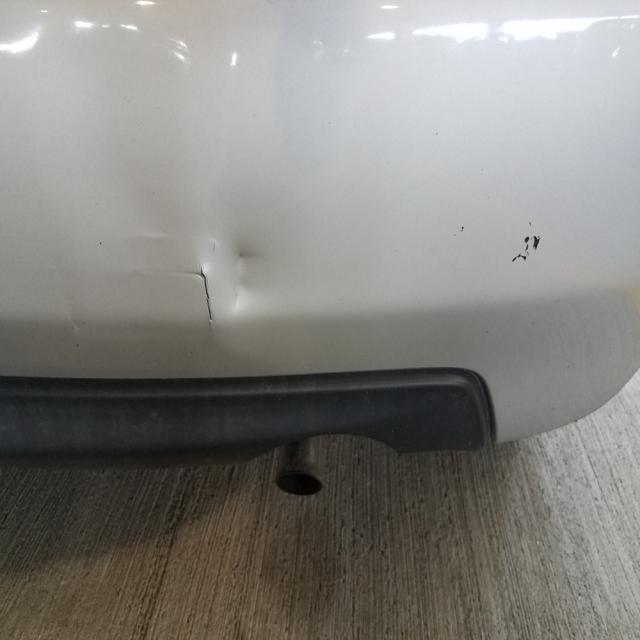crack: (176, 263, 213, 330)
dent: (214, 230, 269, 319)
scratch: (507, 232, 542, 265)
